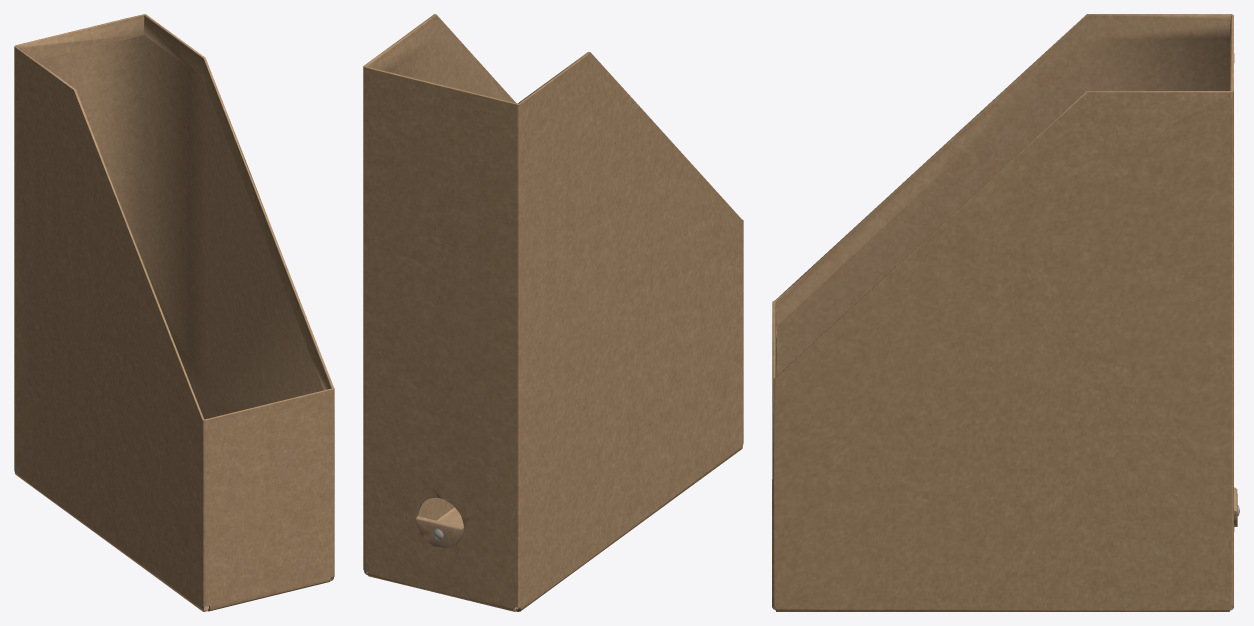
3 views of the same model, side by side, from view 1: azimuth 30°, elevation 25°; view 2: azimuth 150°, elevation 25°; view 3: azimuth 270°, elevation 25° (orthographic). The views are drawn at different scales.
Visible parts, largest first — view 1: ASY_ART_40596932_S01_NV01; view 2: ASY_ART_40596932_S01_NV01; view 3: ASY_ART_40596932_S01_NV01.
Boxes of the visible parts, <box> form: ASY_ART_40596932_S01_NV01: <box>14,14,334,611</box>; ASY_ART_40596932_S01_NV01: <box>363,14,743,611</box>; ASY_ART_40596932_S01_NV01: <box>772,14,1239,611</box>.
Size of the model in its own units: 0.1005 by 0.3119 by 0.2535.
Materials: 1 (1 with a texture image).
